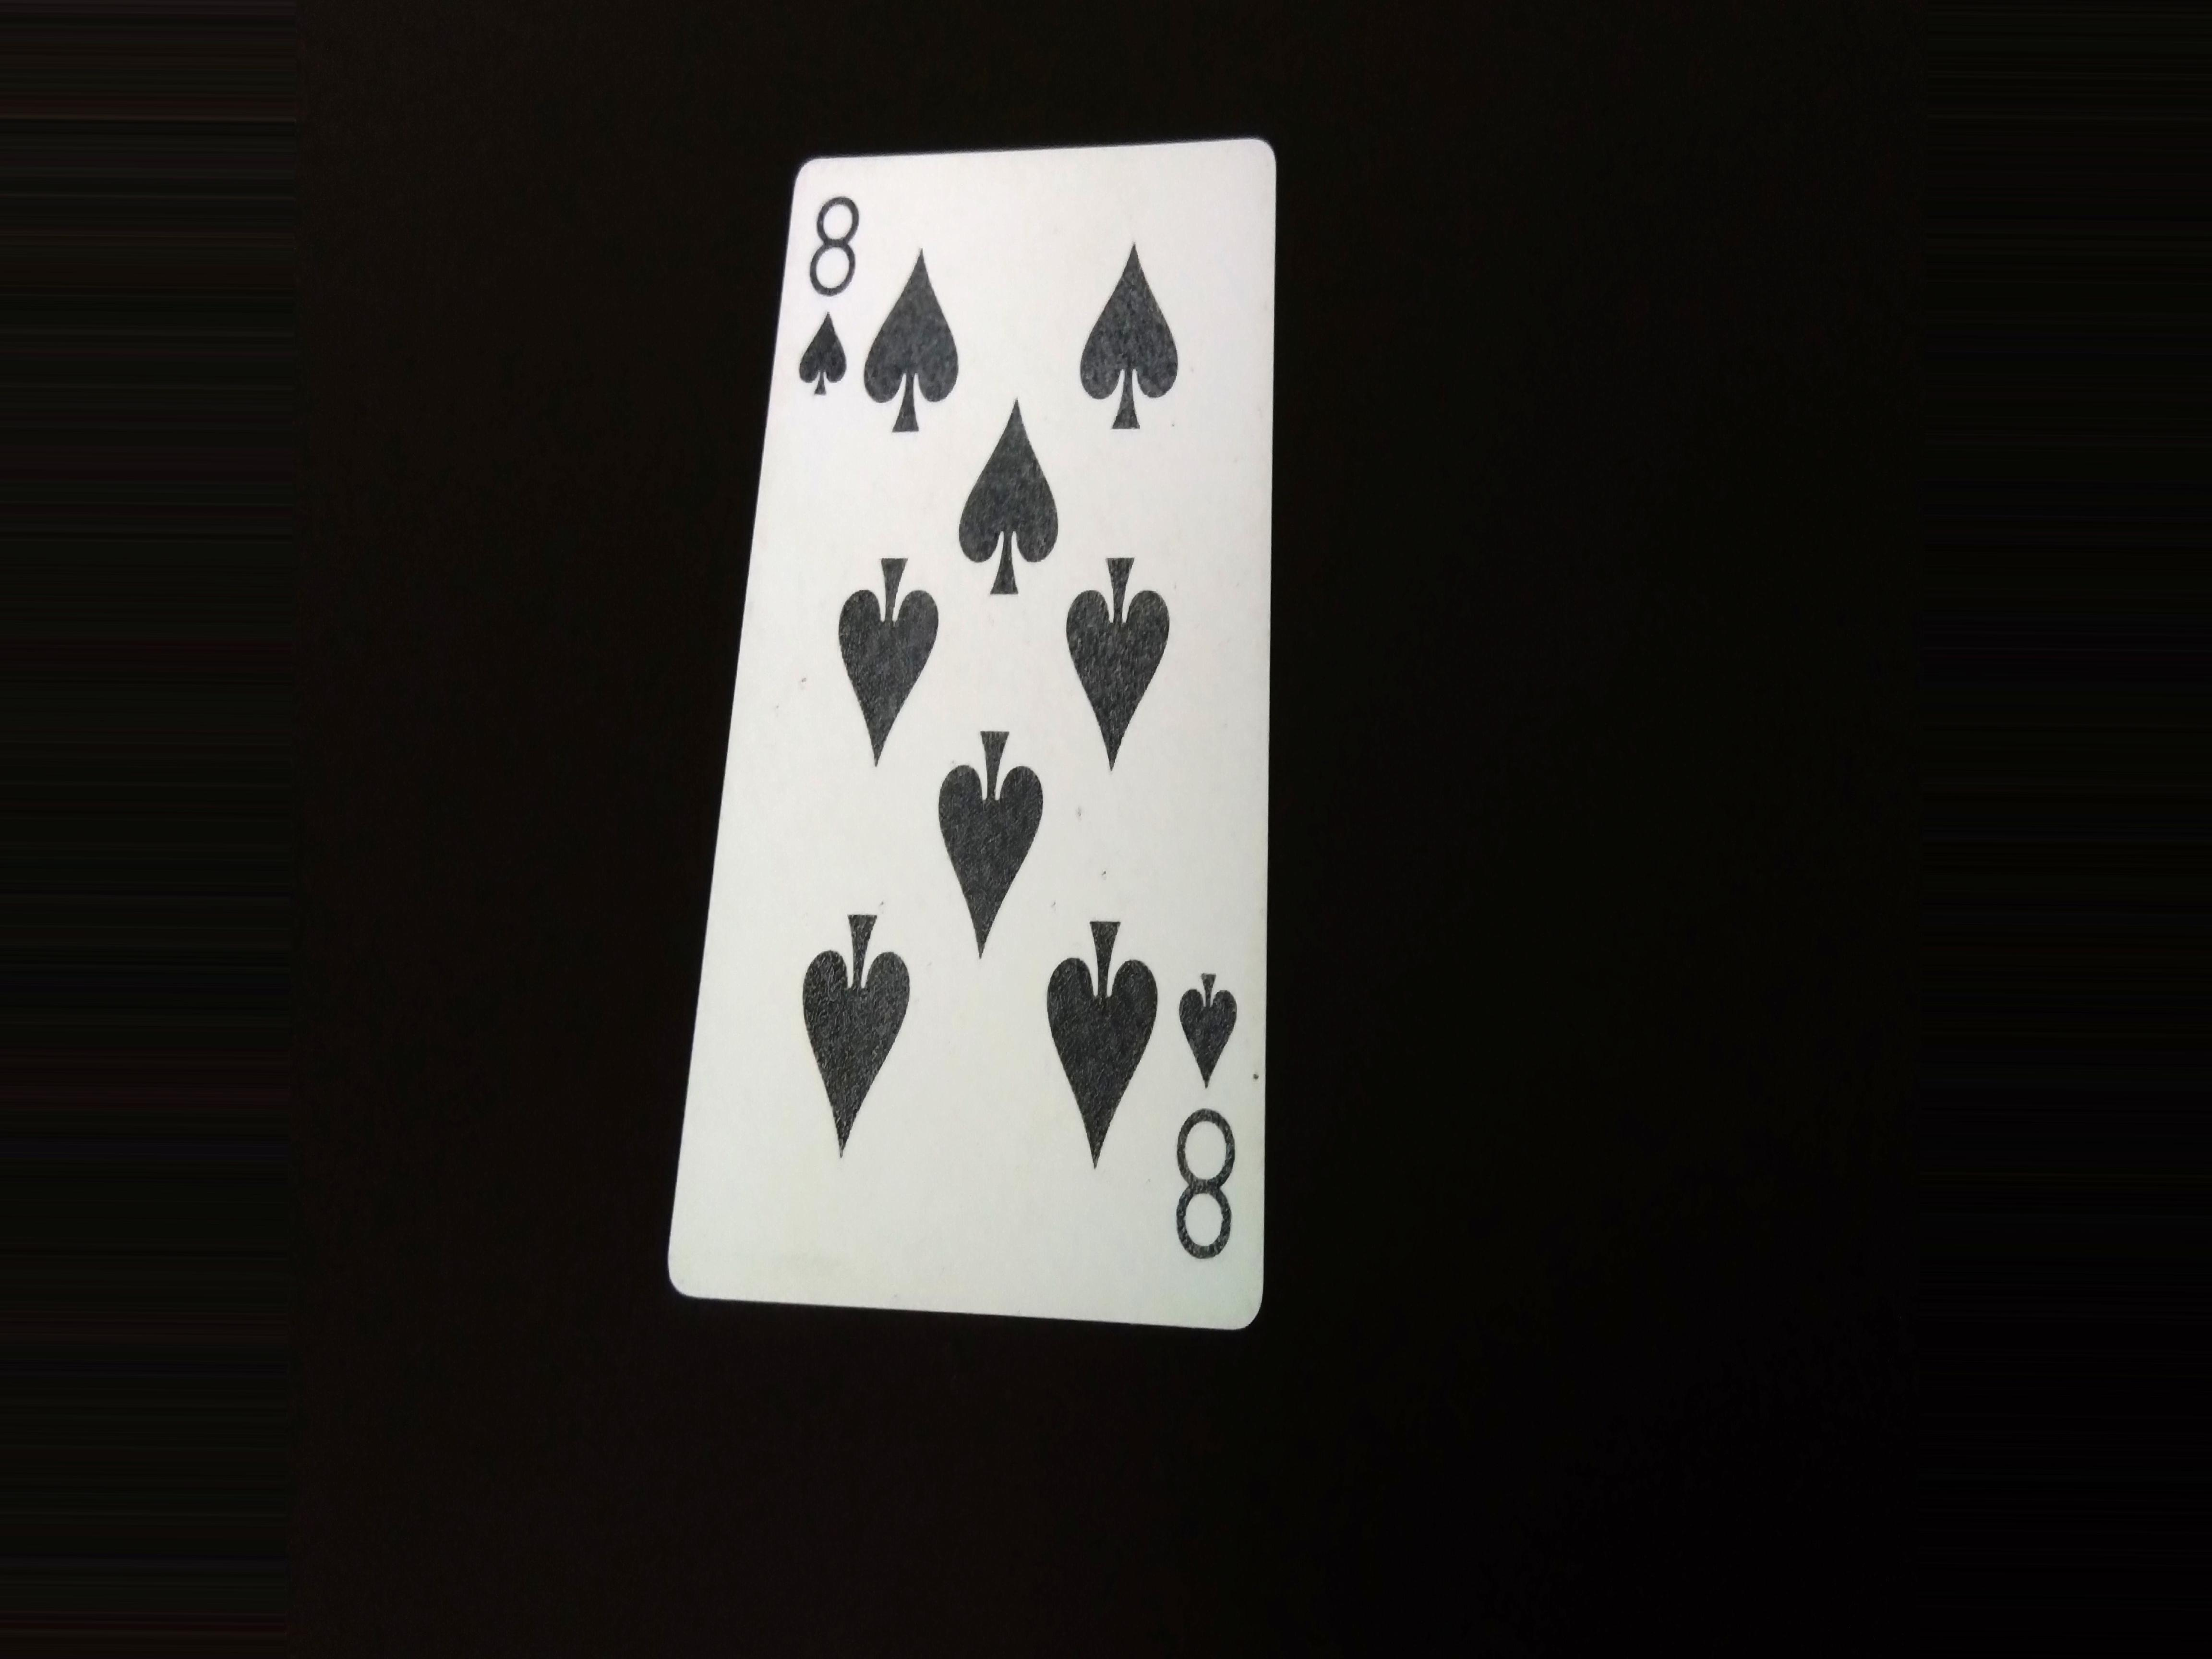8S: (1169, 955, 1259, 1288)
